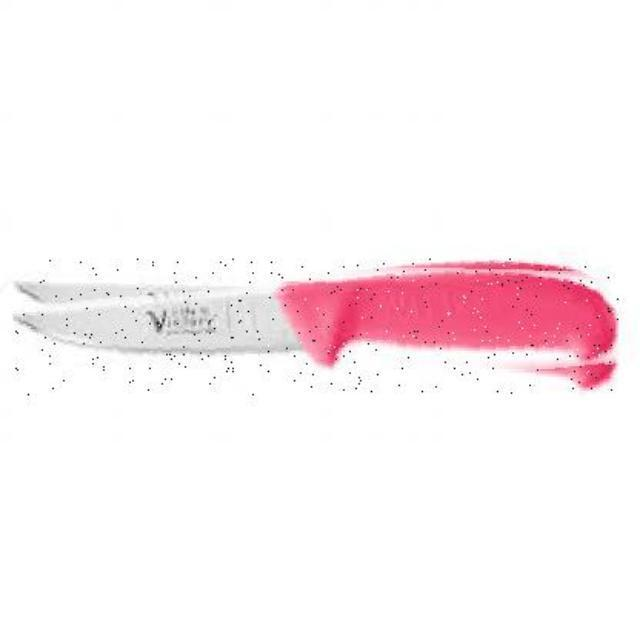Knife: (14, 259, 618, 395)
